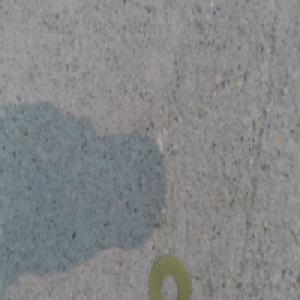Washer: (149, 254, 189, 299)
